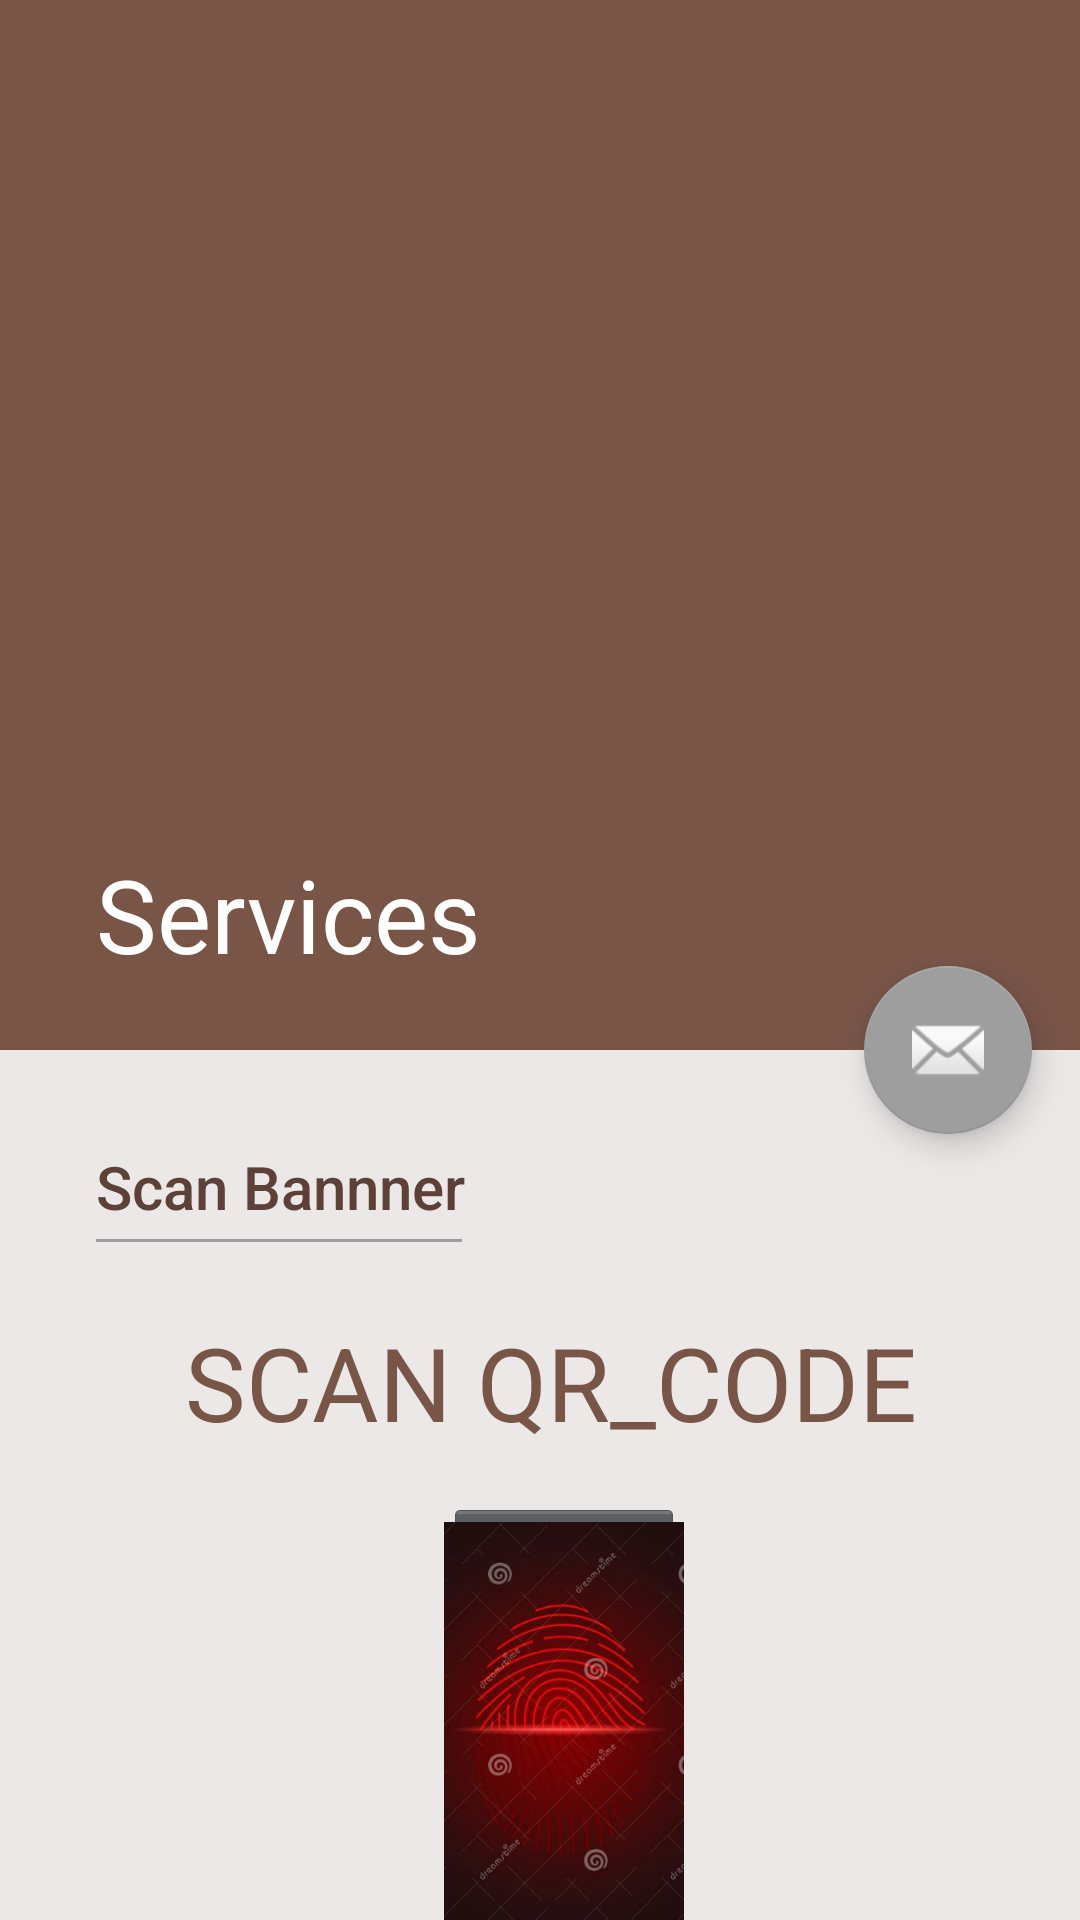

Named icons in this screenshot (1080x1920) and their centers, (x=x, y=y):
email: (x=948, y=1050)
